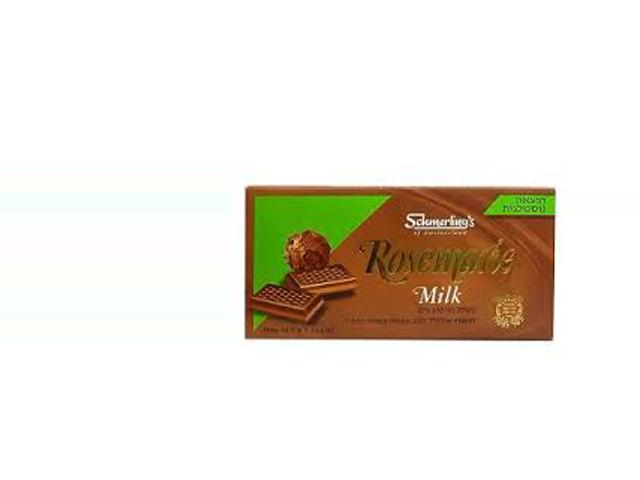chocolate: (238, 179, 567, 354)
